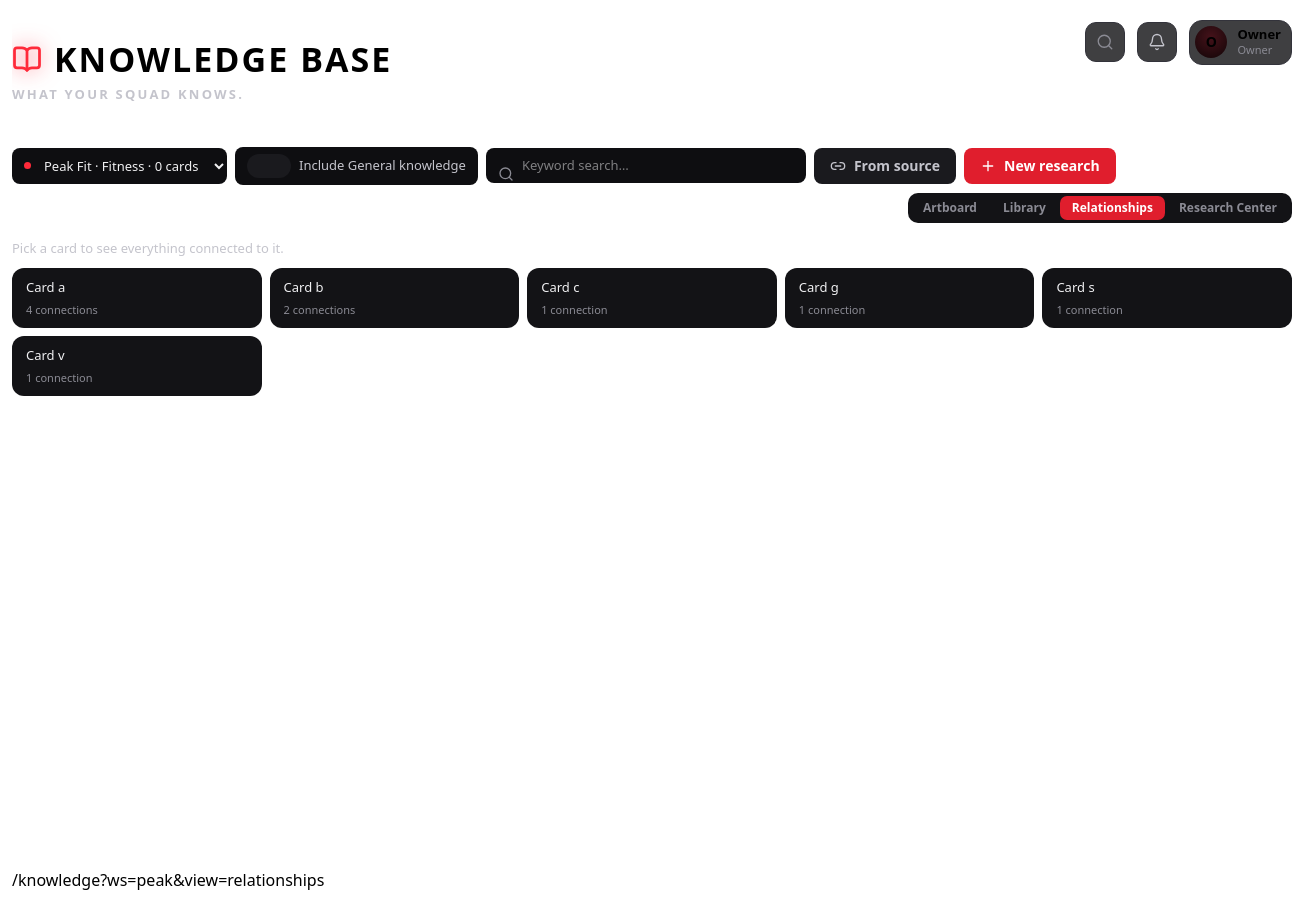
Test: Knowledge Relationships › with no card picked, lists the connected cards, most connected first; picking one centres it
Expected: the button "Card b 2 connections" is shown, top-left (270, 268), bottom-right (519, 328)
What coordinates should you click on to do the following:
click the button "Card a 4 connections"
I would click on:
 (137, 298)
Its box is top-left (12, 268), bottom-right (262, 328).
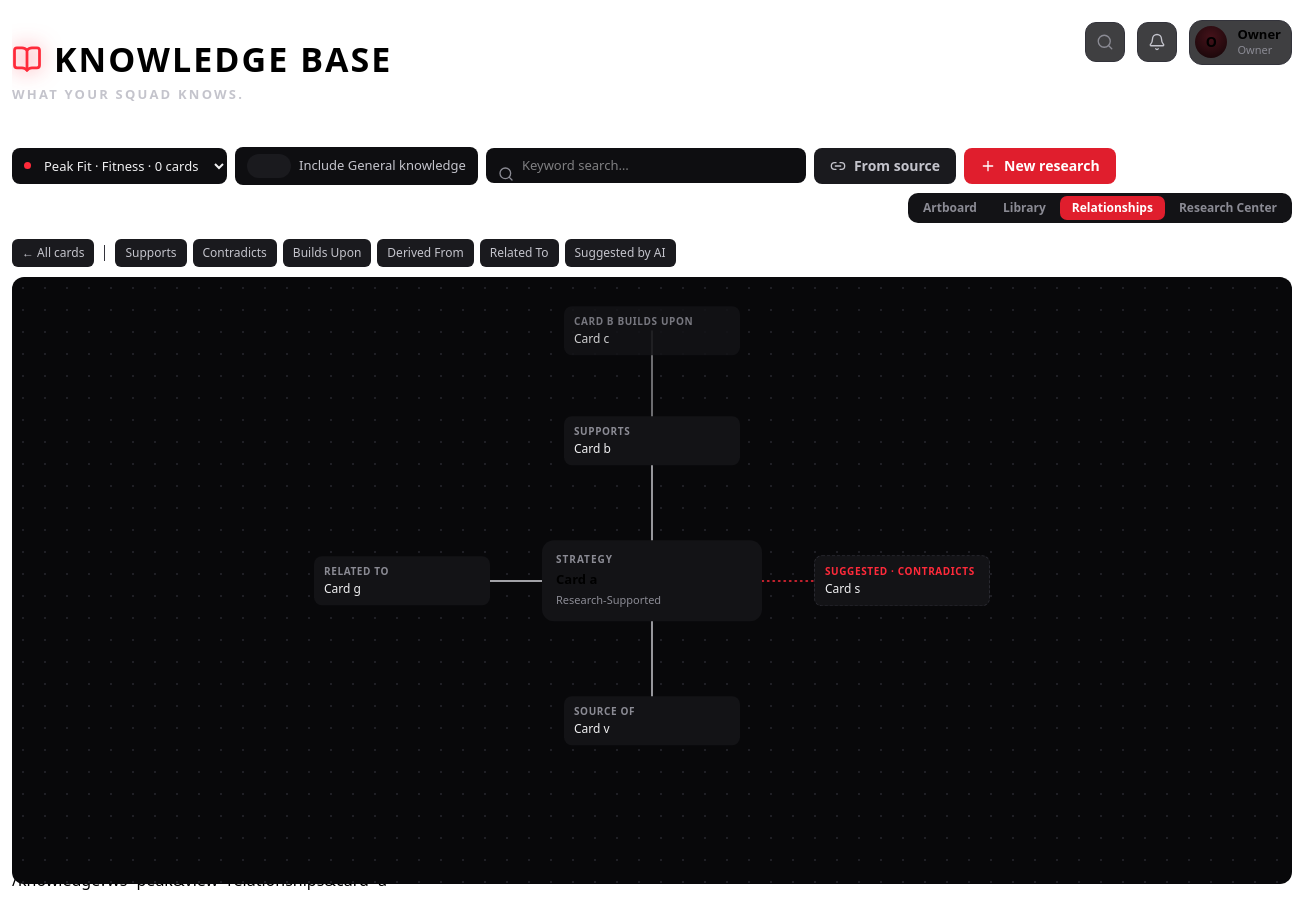
Expected: the text with test id "where" reads "/knowledge?ws=peak&view=relationships&card=a", top-left (12, 869), bottom-right (387, 891)
